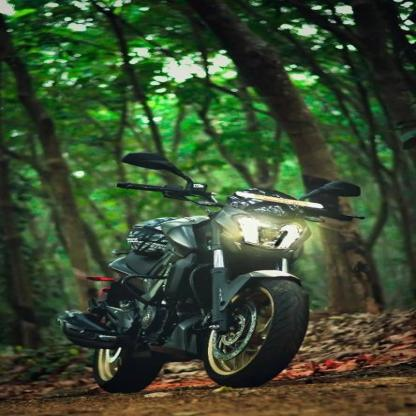bike: (54, 156, 317, 385)
